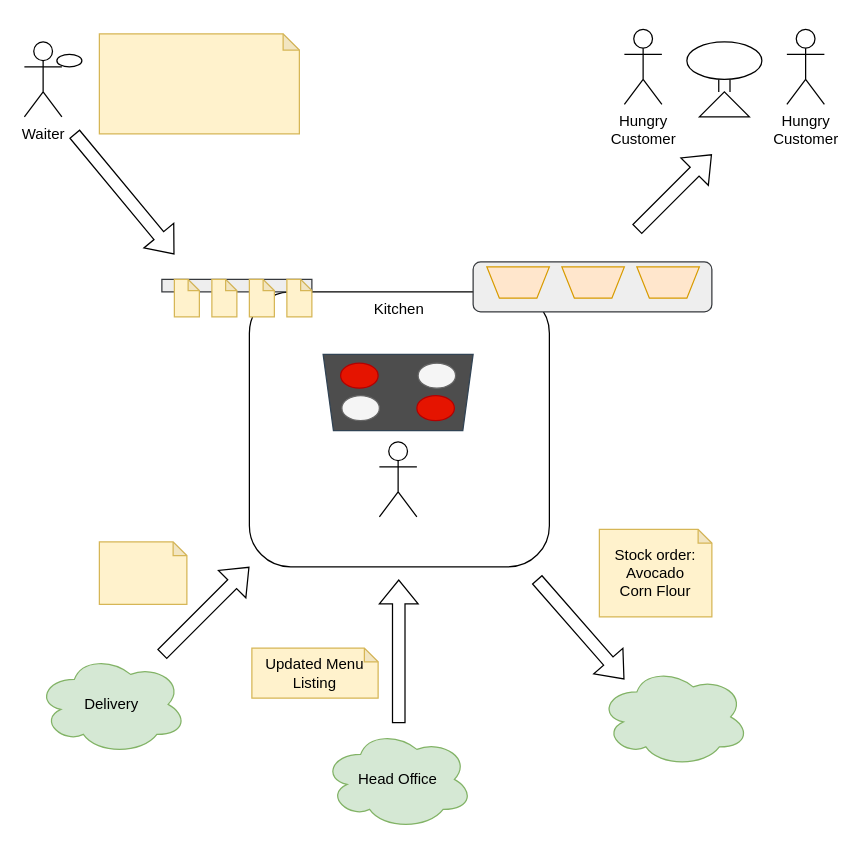
This 859x851 diagram has some shape labels left out. Here are the shapes that lost their labels. From the top down, the centre of each, then its label:
At [198,83]: "1x Guacamole 1x Quesadilla 2x Barbacoa Tacos 2x Margarita".
At [397,479]: "Chef".
At [142,572]: "Tequila Beef Skirt Tomatoes".
At [673,716]: "Purchasing Department".
